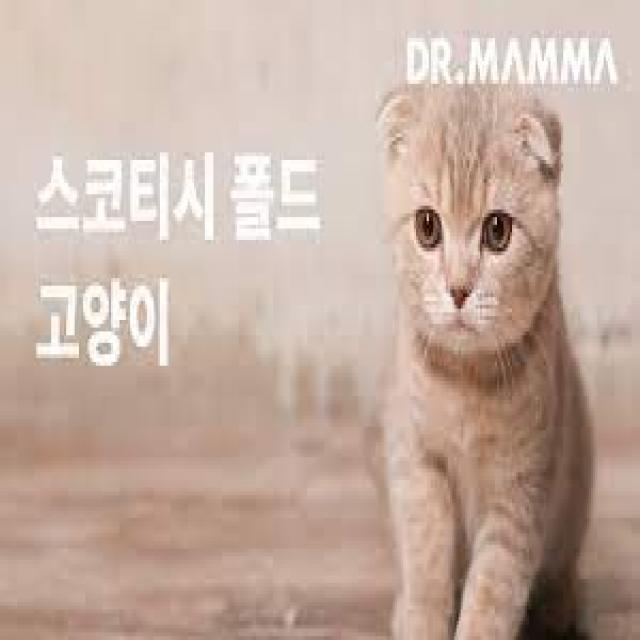cat-face: (349, 58, 592, 422)
